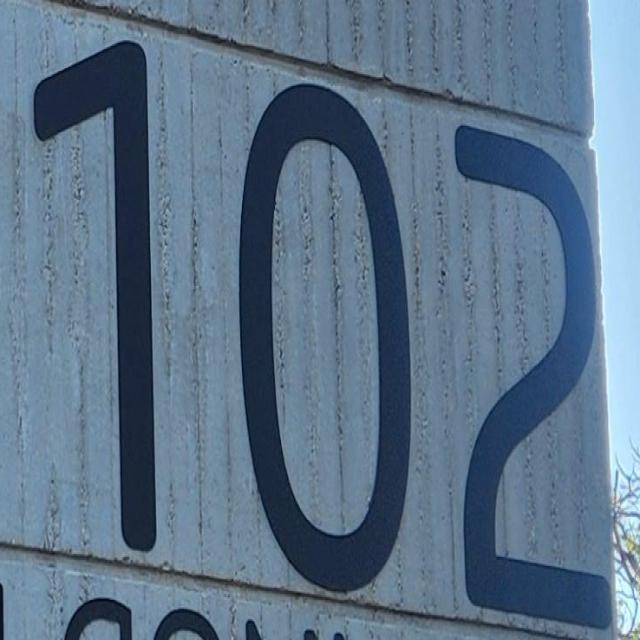character: (234, 79, 416, 602), (452, 118, 618, 636), (30, 33, 162, 560)
